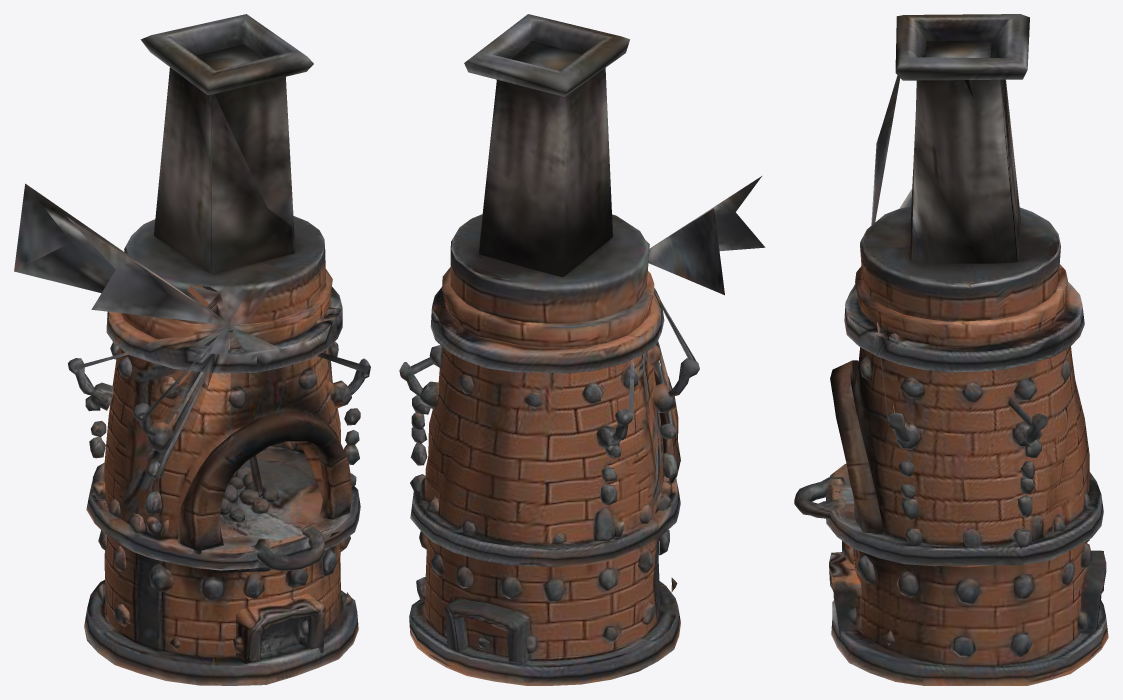
Rendered from fj_forno.glb.
3 views of the same model, side by side, from view 1: azimuth 30°, elevation 25°; view 2: azimuth 150°, elevation 25°; view 3: azimuth 270°, elevation 25° (orthographic). The views are drawn at different scales.
Parts seen in each view (by area): view 1: Mesh_0.1741; view 2: Mesh_0.1741; view 3: Mesh_0.1741.
Boxes of the visible parts, x1,y1,x2,y2 form: Mesh_0.1741: (14, 14, 370, 685); Mesh_0.1741: (399, 14, 765, 685); Mesh_0.1741: (794, 14, 1108, 685).
Bounding box in the file's own units: 0.292 × 0.541 × 0.2578.
Materials: 1 (1 with a texture image).
